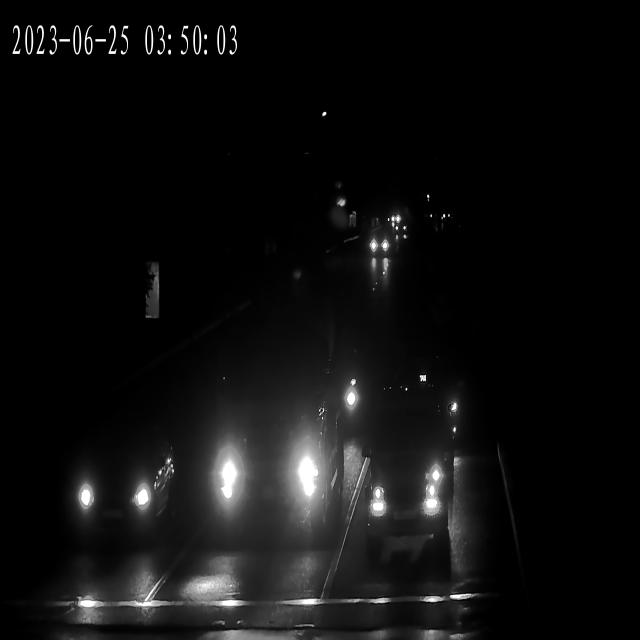Car: (197, 395, 337, 547), (63, 428, 176, 544), (402, 348, 474, 449), (364, 228, 392, 260), (366, 234, 394, 262), (389, 223, 409, 242), (386, 219, 405, 236), (382, 213, 401, 229)
Motorcycle: (340, 365, 368, 437)
